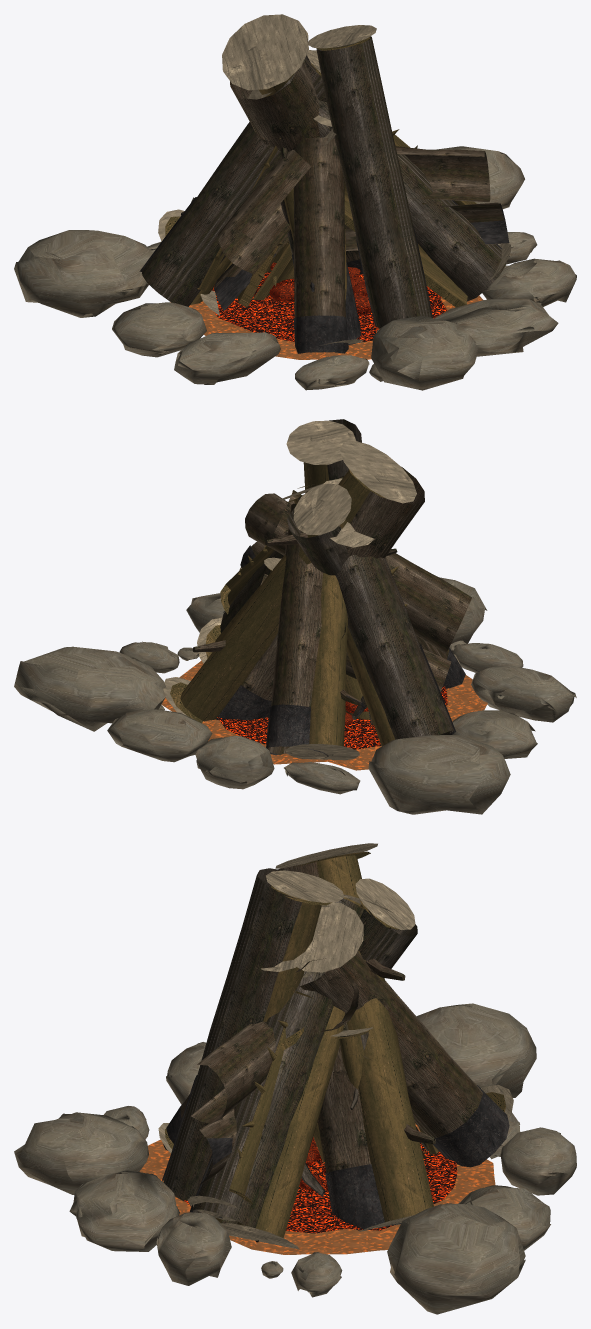
File: bonfire_v2.glb
The picture shows the model from 3 angles, top to bottom: view 1: azimuth 30°, elevation 25°; view 2: azimuth 150°, elevation 25°; view 3: azimuth 270°, elevation 25°; orthographic projection. The views are drawn at different scales.
Parts seen in each view (by area): view 1: logs_2, logs_6, stones_7, logs_3, logs_0, stones_3, logs_5, logs_end1_9, logs_1, stones_2, logs_9, stones_5 (+15 smaller); view 2: logs_6, stones_7, stones_11, logs_inner_9, logs_7, logs_5, logs_inner_7, logs_9, stones_5, stones_10, stones_9, stones_6 (+22 smaller); view 3: stones_11, logs_2, logs_inner_9, logs_0, logs_7, stones_3, stones_7, stones_2, logs_inner_0, logs_1, pit_ash, logs_9 (+18 smaller).
Boxes of the visible parts, x1=… form: logs_2: x1=316, y1=36, x2=431, y2=328; logs_6: x1=141, y1=55, x2=326, y2=306; stones_7: x1=14, y1=230, x2=152, y2=317; logs_3: x1=293, y1=137, x2=345, y2=317; logs_0: x1=273, y1=58, x2=506, y2=301; stones_3: x1=371, y1=316, x2=478, y2=390; logs_5: x1=215, y1=124, x2=344, y2=308; logs_end1_9: x1=222, y1=14, x2=308, y2=90; logs_1: x1=345, y1=146, x2=507, y2=250; stones_2: x1=435, y1=298, x2=558, y2=356; logs_9: x1=230, y1=62, x2=359, y2=262; stones_5: x1=174, y1=332, x2=280, y2=384; logs_6: x1=298, y1=477, x2=453, y2=739; stones_7: x1=368, y1=735, x2=510, y2=814; stones_11: x1=14, y1=646, x2=165, y2=731; logs_inner_9: x1=170, y1=469, x2=385, y2=723; logs_7: x1=267, y1=503, x2=361, y2=754; logs_5: x1=261, y1=490, x2=471, y2=725; logs_inner_7: x1=309, y1=573, x2=347, y2=746; logs_9: x1=192, y1=467, x2=424, y2=700; stones_5: x1=471, y1=665, x2=576, y2=722; stones_10: x1=107, y1=709, x2=212, y2=762; stones_9: x1=195, y1=736, x2=274, y2=789; stones_6: x1=452, y1=710, x2=537, y2=758; stones_11: x1=387, y1=1203, x2=525, y2=1314; logs_2: x1=163, y1=868, x2=302, y2=1201; logs_inner_9: x1=294, y1=851, x2=433, y2=1222; logs_0: x1=192, y1=898, x2=363, y2=1228; logs_7: x1=298, y1=951, x2=482, y2=1137; stones_3: x1=14, y1=1112, x2=148, y2=1194; stones_7: x1=416, y1=1003, x2=536, y2=1097; stones_2: x1=69, y1=1169, x2=179, y2=1251; logs_inner_0: x1=237, y1=905, x2=364, y2=1237; logs_1: x1=191, y1=1021, x2=275, y2=1184; pit_ash: x1=139, y1=1123, x2=495, y2=1254; logs_9: x1=278, y1=862, x2=435, y2=1172.
Bounding box in the file's own units: 2.09 × 1.24 × 1.79.
8 materials, 8 textured.
